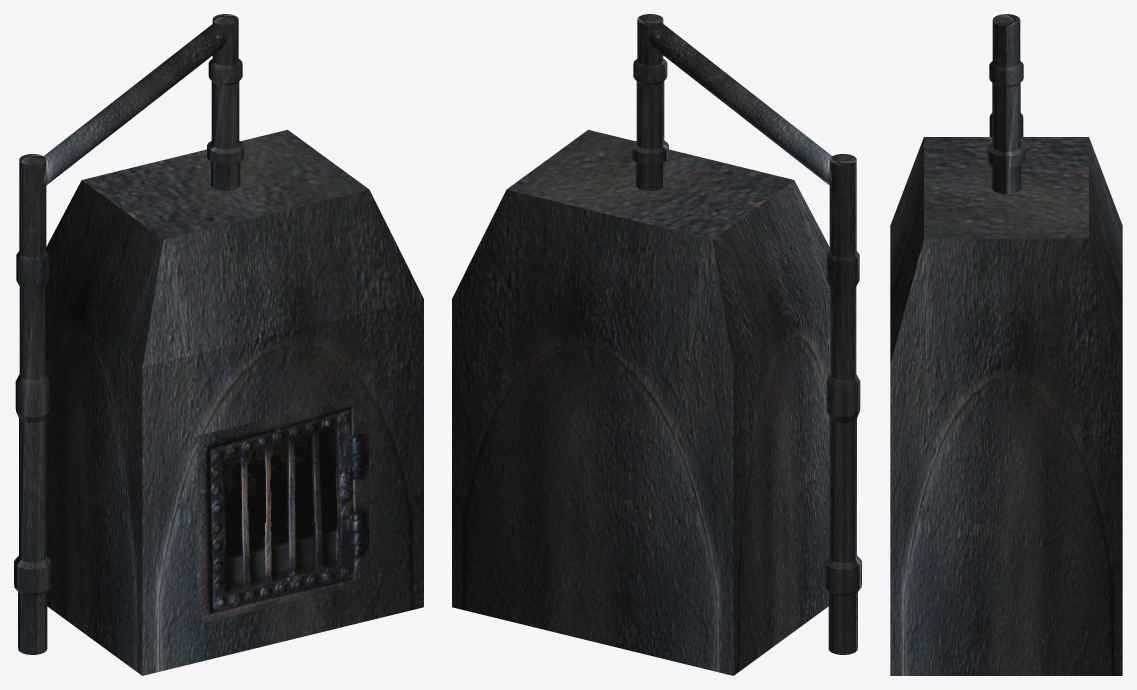
File: furnace_model.fbx
The picture shows the model from 3 angles, left to right: view 1: azimuth 30°, elevation 25°; view 2: azimuth 150°, elevation 25°; view 3: azimuth 270°, elevation 25°; orthographic projection.
Parts seen in each view (by area): view 1: pCube21; view 2: pCube21; view 3: pCube21.
Boxes of the visible parts, x1,y1,x2,y2 form: pCube21: (14, 14, 423, 675); pCube21: (452, 14, 861, 675); pCube21: (890, 14, 1122, 675).
Size of the model in its own units: 0.1317 by 0.2095 by 0.075.
